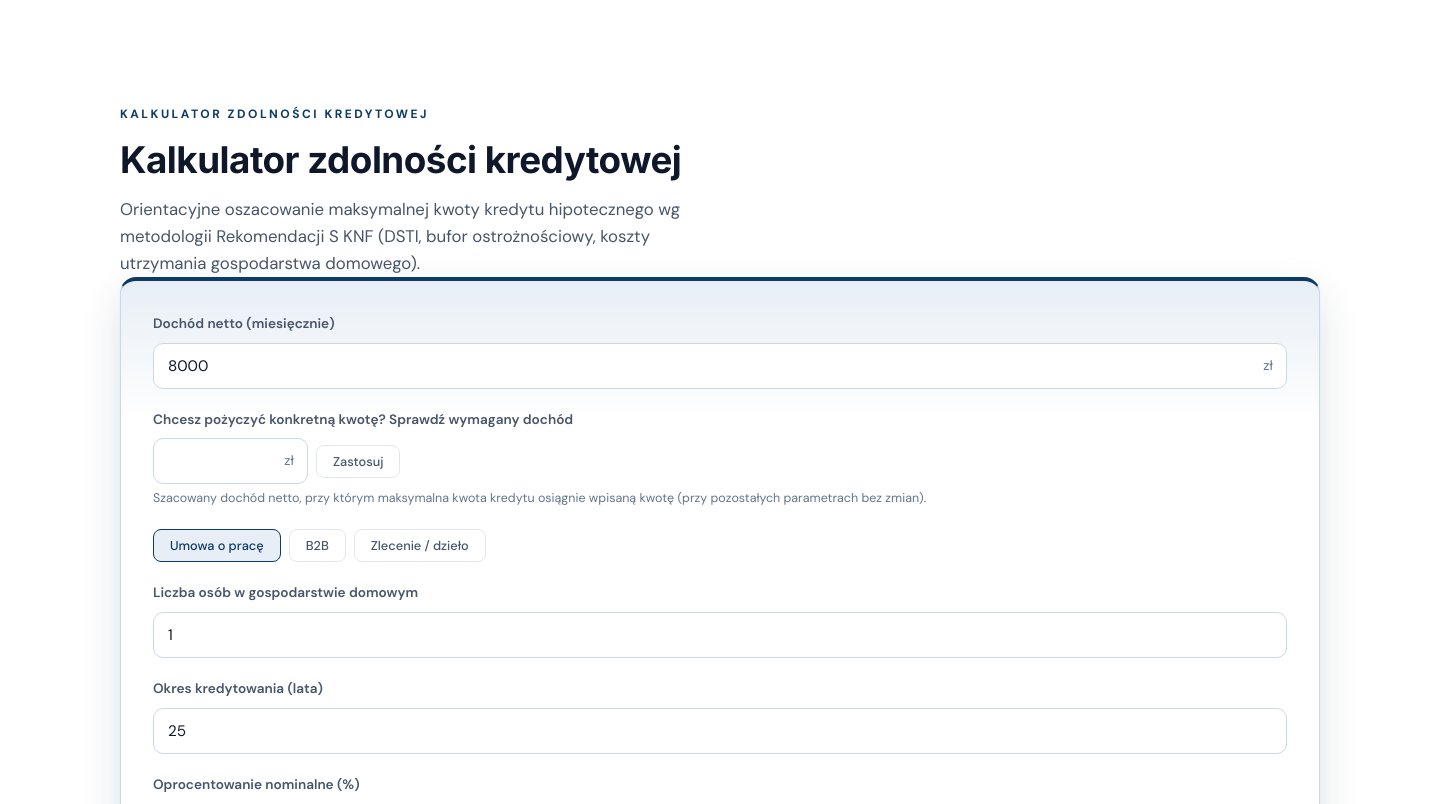
Test: CreditworthinessCalculator target-loan-to-income helper (render) › the "Zastosuj" button stays disabled until a target amount is entered
Check: the button "Zastosuj" is disabled, box [316,445,400,478]
In the number field labelled "Chcesz pożyczyć konkretną kwotę? Sprawdź wymagany dochód": coordinates (230, 462) [153,438,308,484], type "400000"
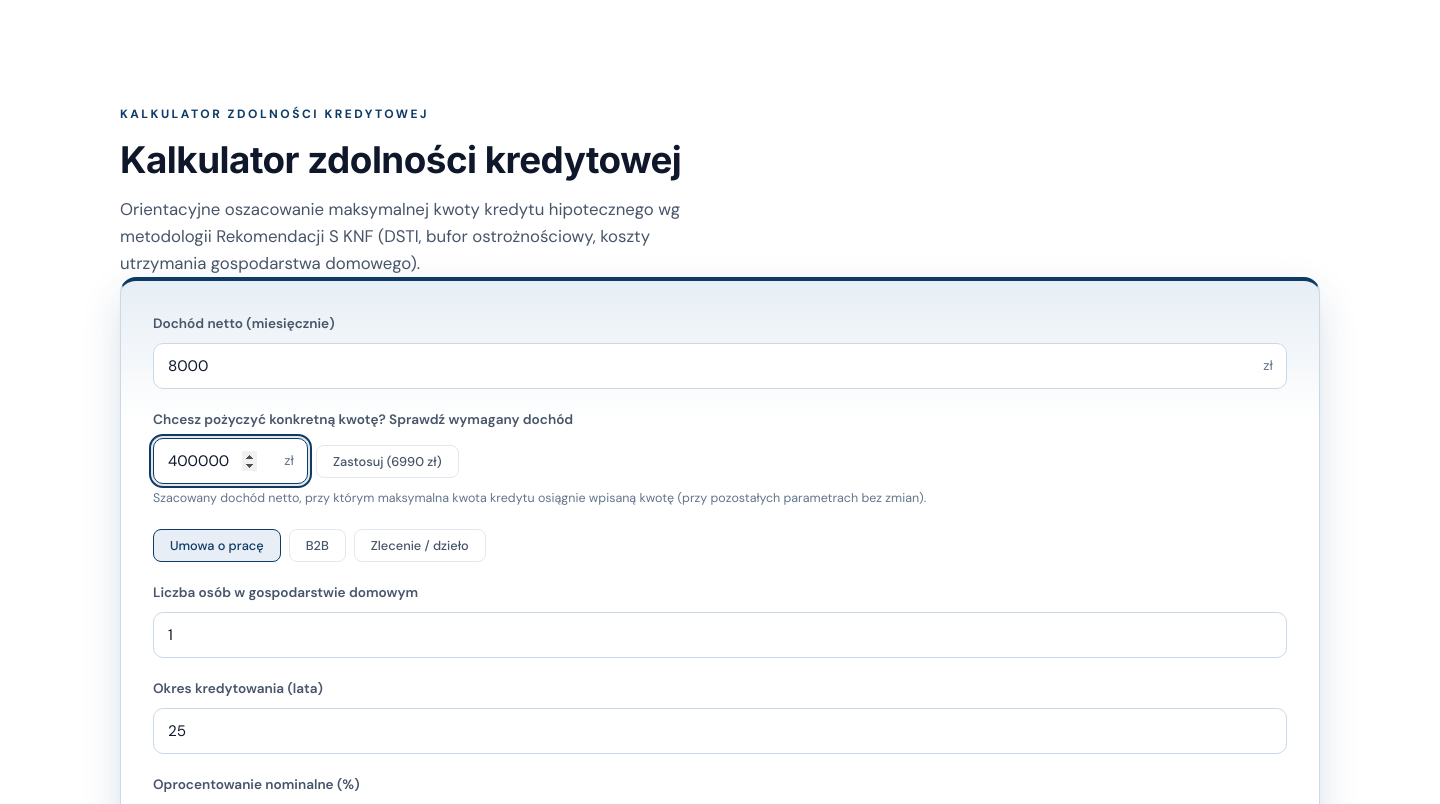
Check: the button "Zastosuj (6990 zł)" is enabled, box [316,445,458,478]
